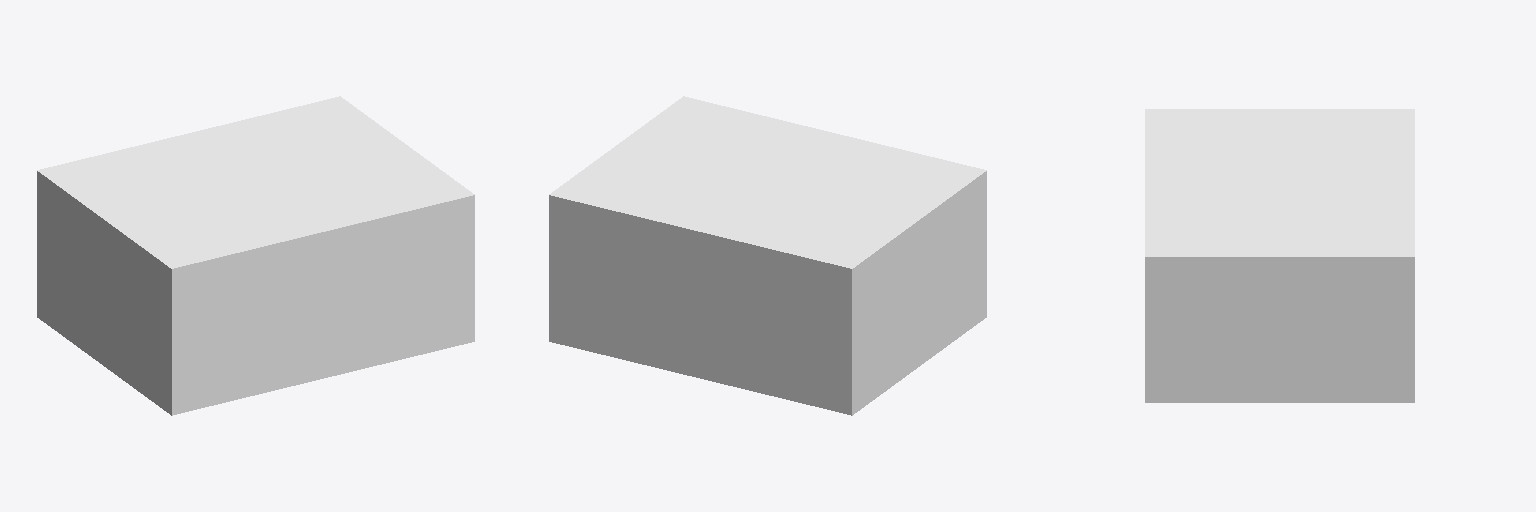
File: BrickBroken.obj
3 views of the same model, side by side, from view 1: azimuth 30°, elevation 25°; view 2: azimuth 150°, elevation 25°; view 3: azimuth 270°, elevation 25° (orthographic).
Parts seen in each view (by area): view 1: object 1; view 2: object 1; view 3: object 1.
Boxes of the visible parts, <box> form: object 1: <box>37,96,474,415</box>; object 1: <box>549,96,986,415</box>; object 1: <box>1145,109,1414,402</box>.
Bounding box in the file's own units: 1.3 × 0.6 × 1.